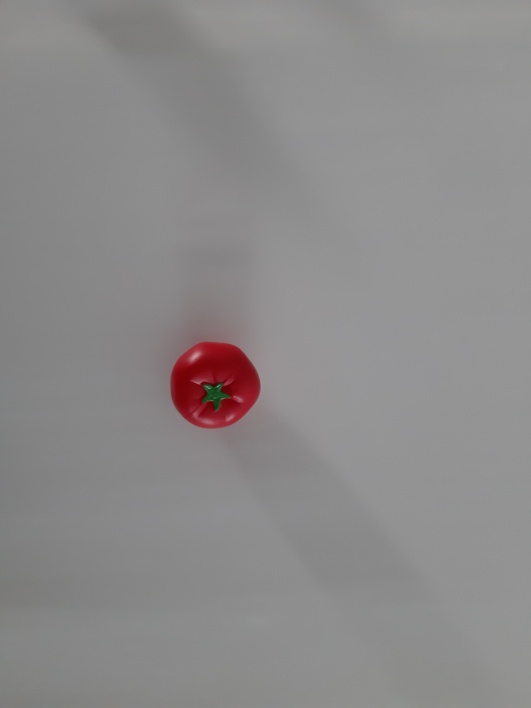tomato: (150, 332, 275, 436)
